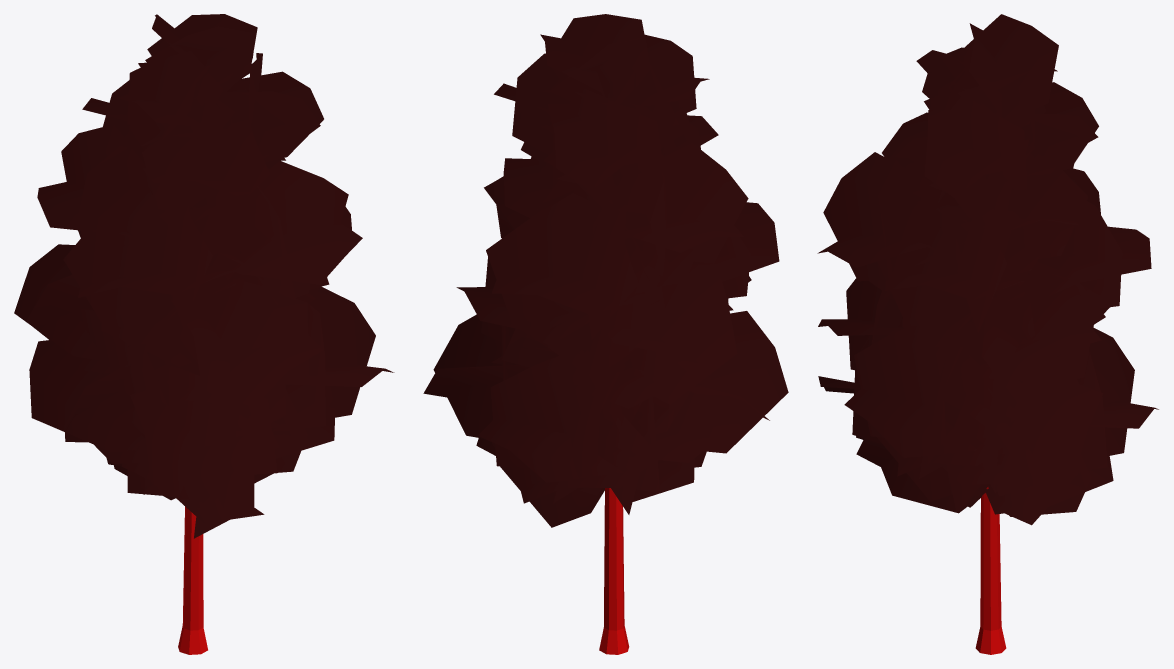
Rendered from SM_Tree_Birch_01.fbx.
3 renders of one model, left to right at view 1: azimuth 30°, elevation 25°; view 2: azimuth 150°, elevation 25°; view 3: azimuth 270°, elevation 25°, orthographic.
Parts seen in each view (by area): view 1: SM_Tree_Birch_01; view 2: SM_Tree_Birch_01; view 3: SM_Tree_Birch_01.
Boxes of the visible parts, x1,y1,x2,y2 form: SM_Tree_Birch_01: (14,14,394,654); SM_Tree_Birch_01: (423,14,788,654); SM_Tree_Birch_01: (817,14,1158,654).
Bounding box in the file's own units: 245 × 455 × 229.
